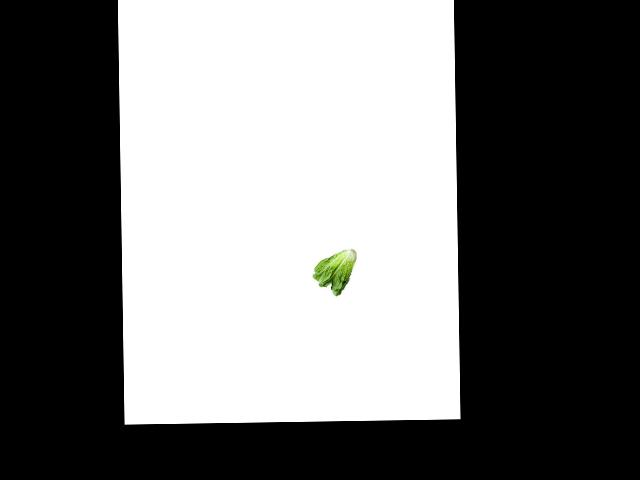lettuce: (306, 247, 358, 296)
